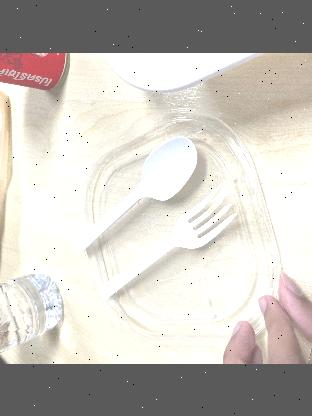Others: (96, 174, 250, 310), (71, 127, 205, 261)
